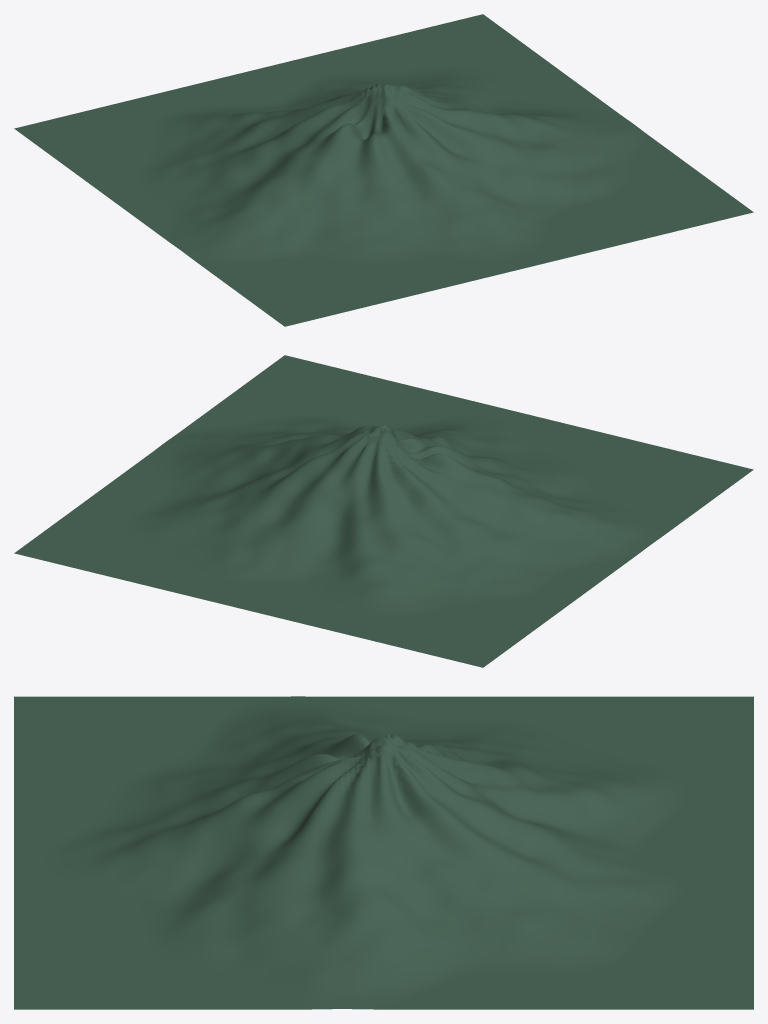
File: VolcanicIsland.fbx
The picture shows the model from 3 angles, top to bottom: view 1: azimuth 30°, elevation 25°; view 2: azimuth 150°, elevation 25°; view 3: azimuth 270°, elevation 25°; orthographic projection. The views are drawn at different scales.
Visible parts, largest first — view 1: Eroded volcanic island.002; view 2: Eroded volcanic island.002; view 3: Eroded volcanic island.002.
Boxes of the visible parts, bbox=[...] form: Eroded volcanic island.002: bbox=[14, 14, 753, 326]; Eroded volcanic island.002: bbox=[14, 355, 753, 667]; Eroded volcanic island.002: bbox=[14, 696, 753, 1009].
Bounding box in the file's own units: 230 × 40.41 × 230.
